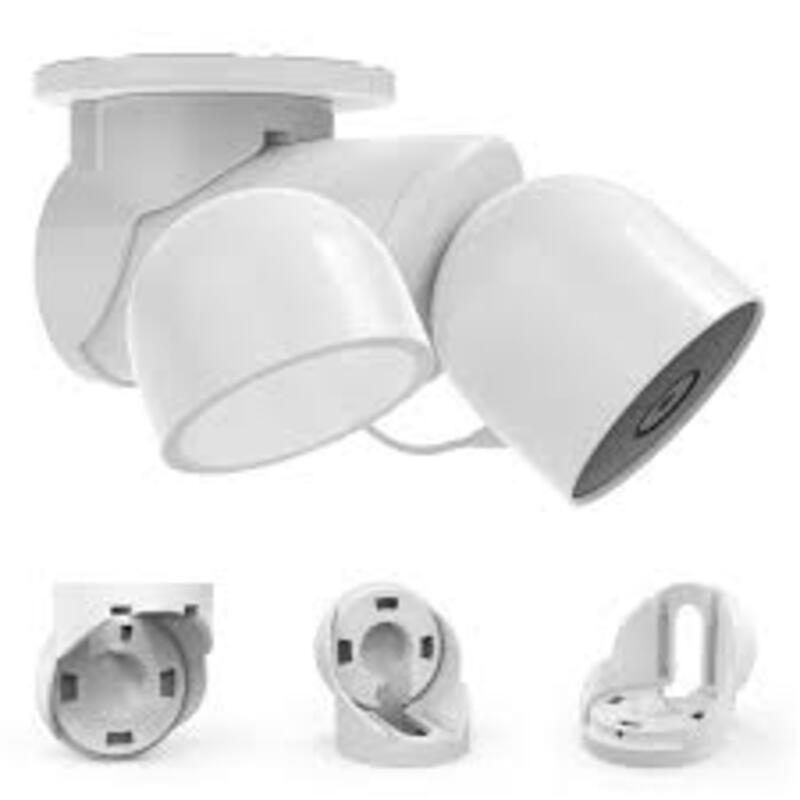nest: (421, 156, 768, 509)
